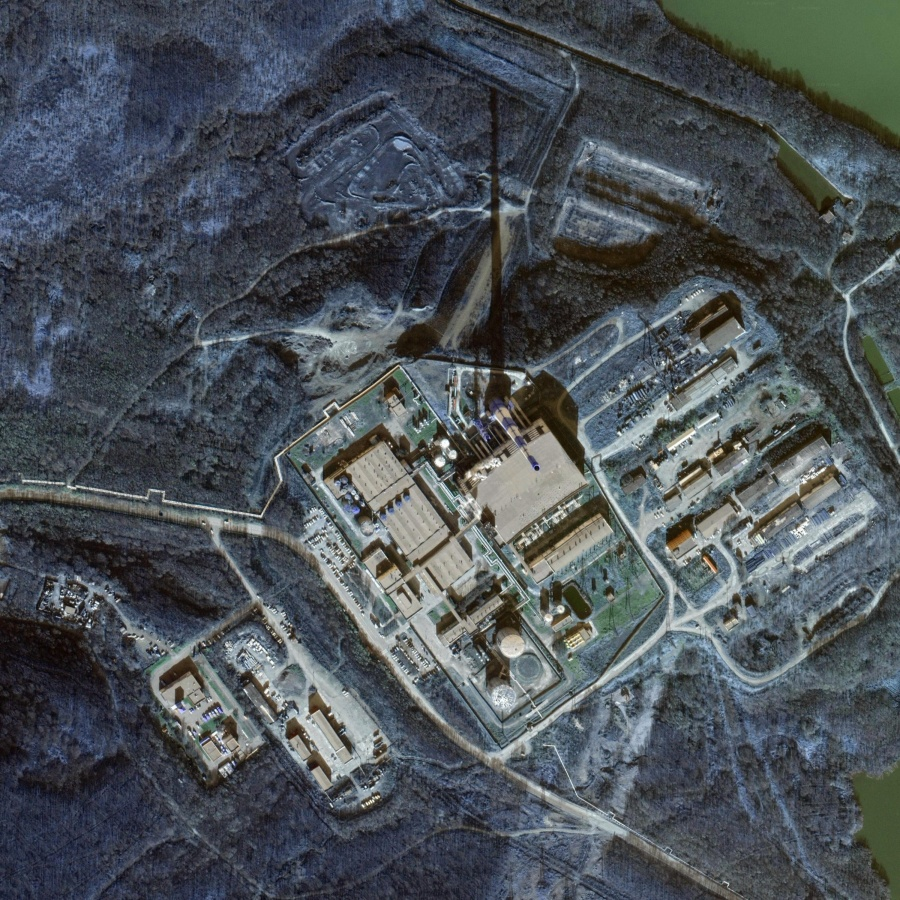PowerPlant: (321, 350, 636, 714)
